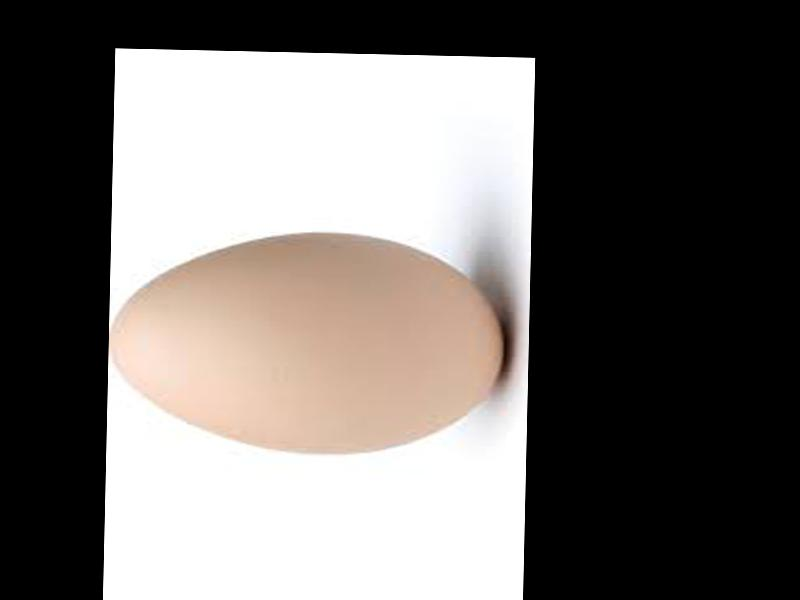Eggs: (109, 228, 511, 458)
